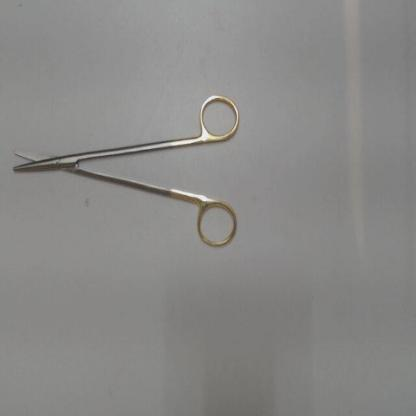7 Metzenbaum Scissors: (10, 84, 242, 256)
